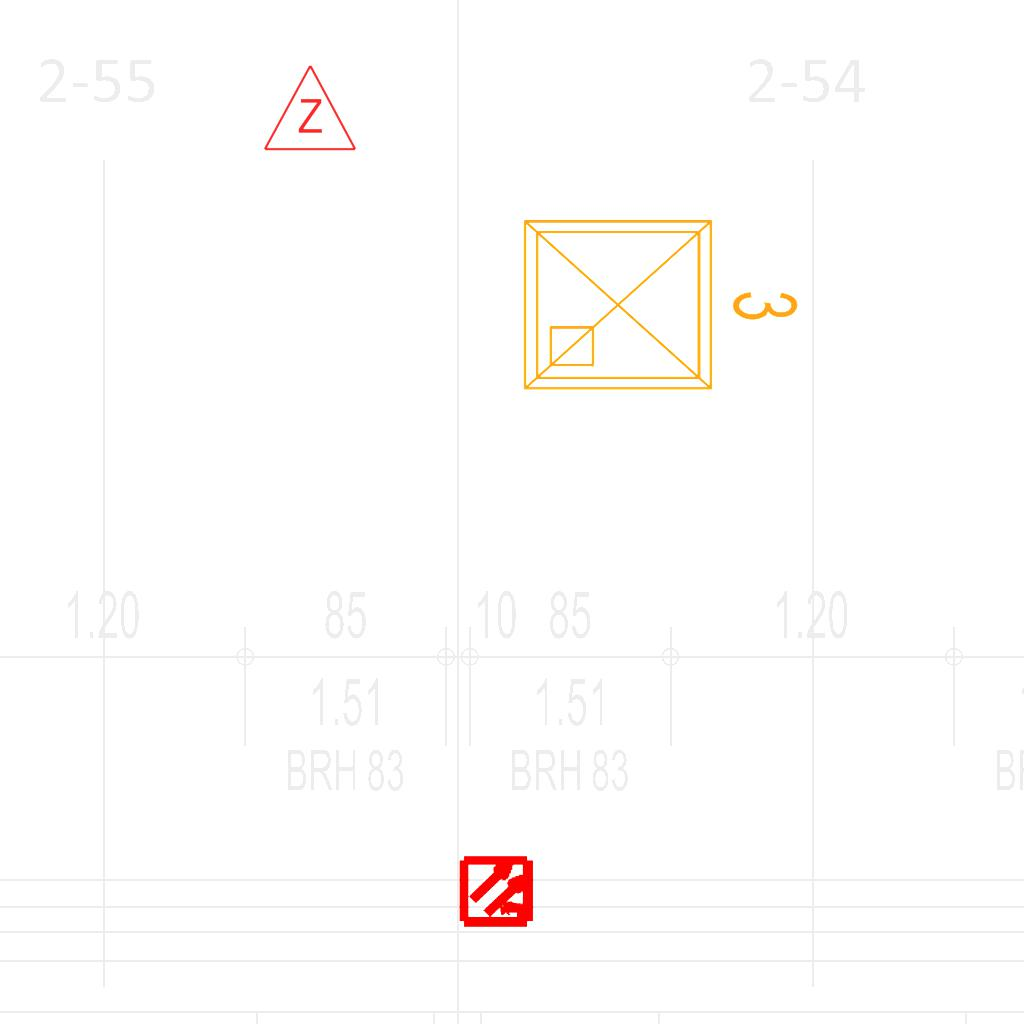Einbaudownlights_LED_Konferenzraeume: (509, 197, 809, 405)
OT_Multisensormelder_(Kombination_RMO_WMD): (442, 835, 555, 948)
Zimmersignalleuchte: (260, 58, 358, 158)
